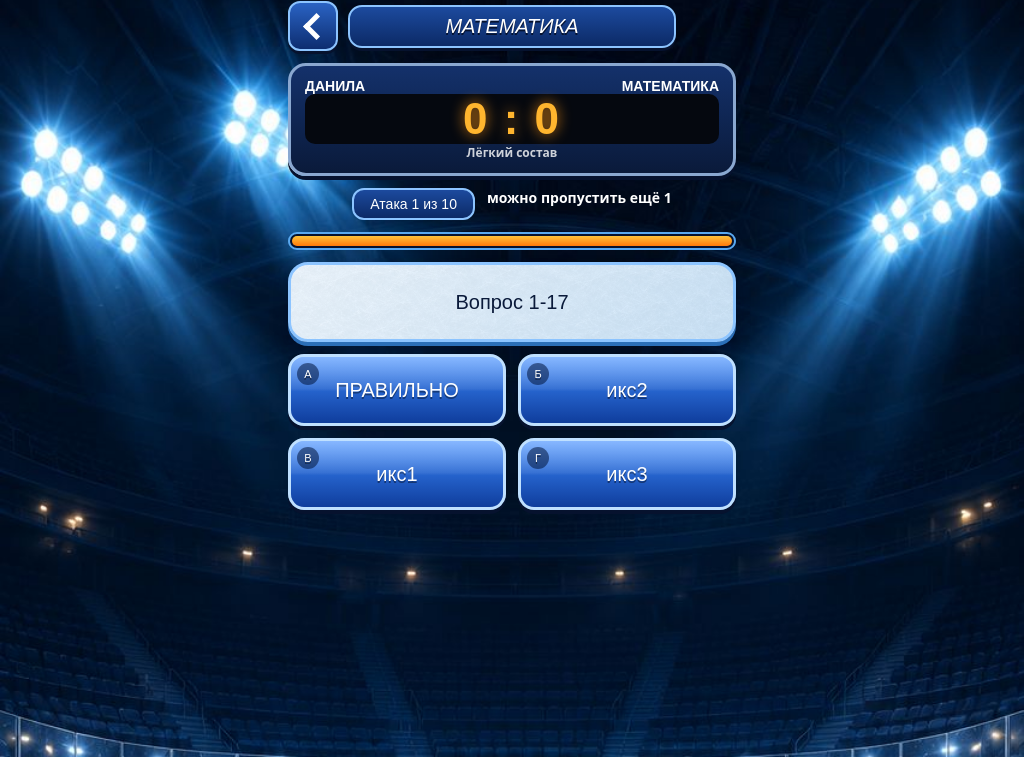
экран матча › wrongAnswerShowsCorrectAndWhy
Click the button "В икс1". click: [397, 474]
box: [288,438,506,510]
(page scrolled)
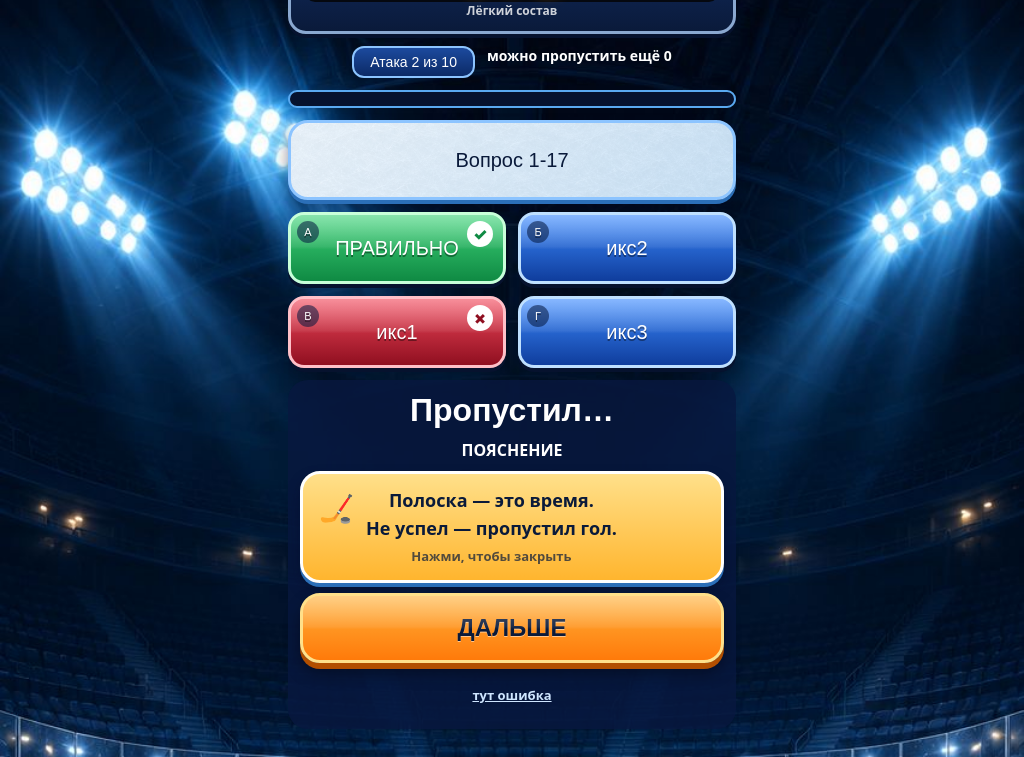
Expected: the text "Пропустил…" is shown, [410,392,614,428]
Expected: the text "ПОЯСНЕНИЕ" is shown, [462,439,563,461]
Expected: the button "Дальше" is shown, [300,593,724,663]
